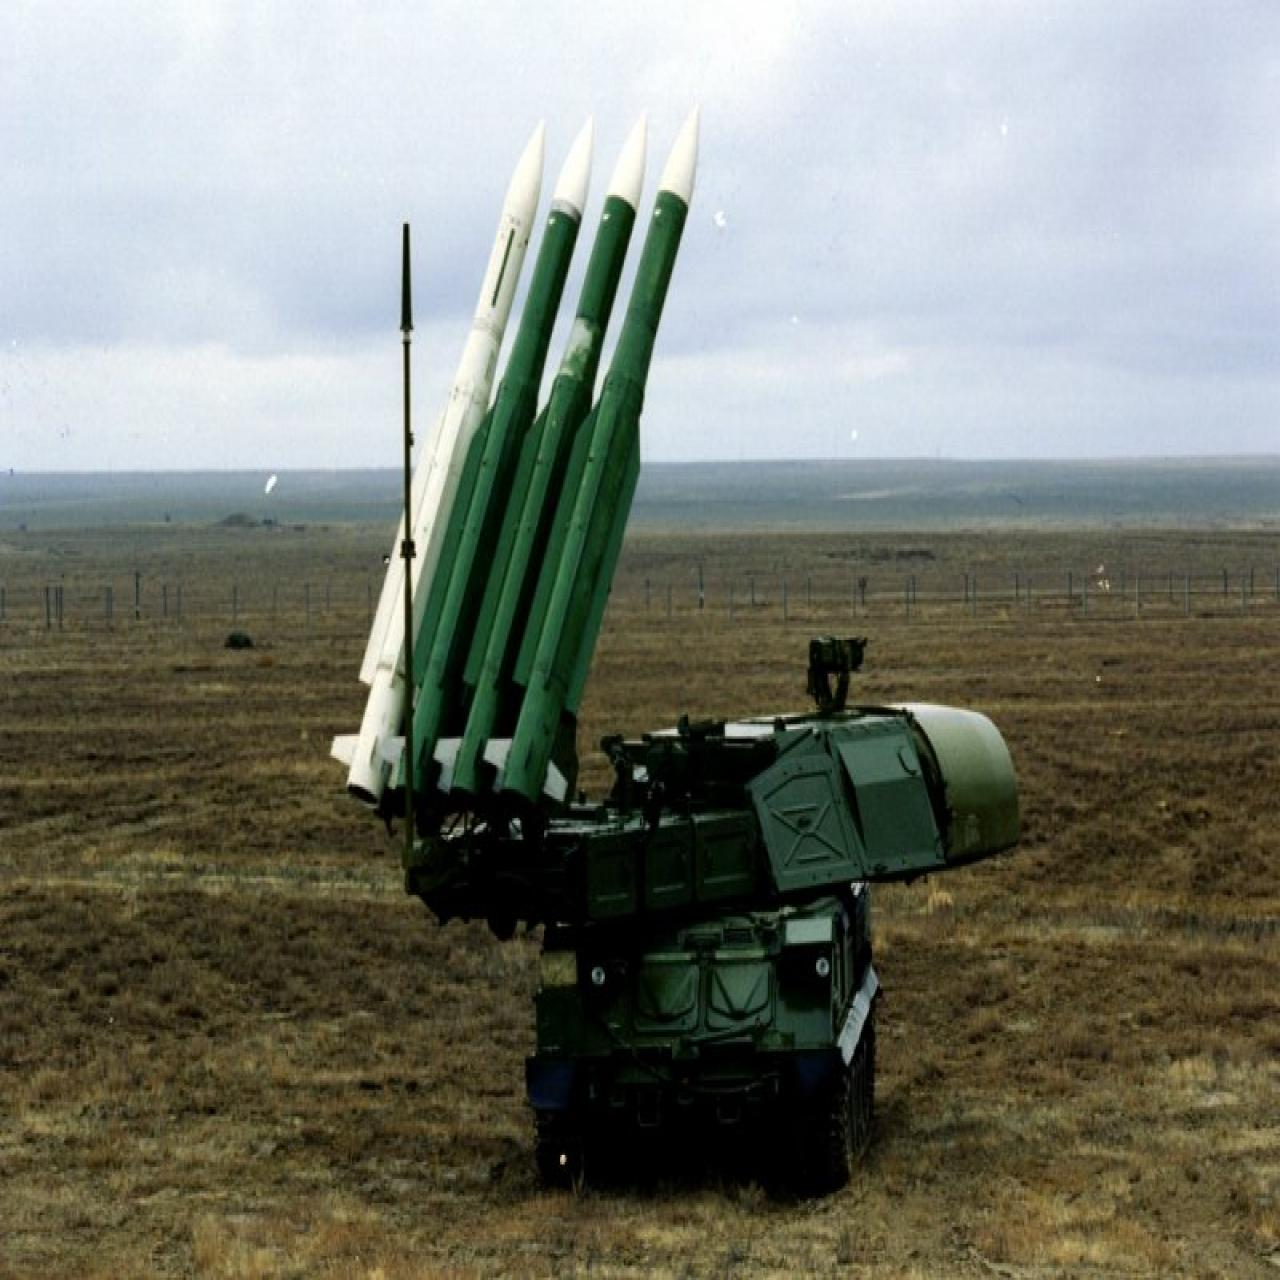MIL_Veh: (338, 105, 1017, 1171)
